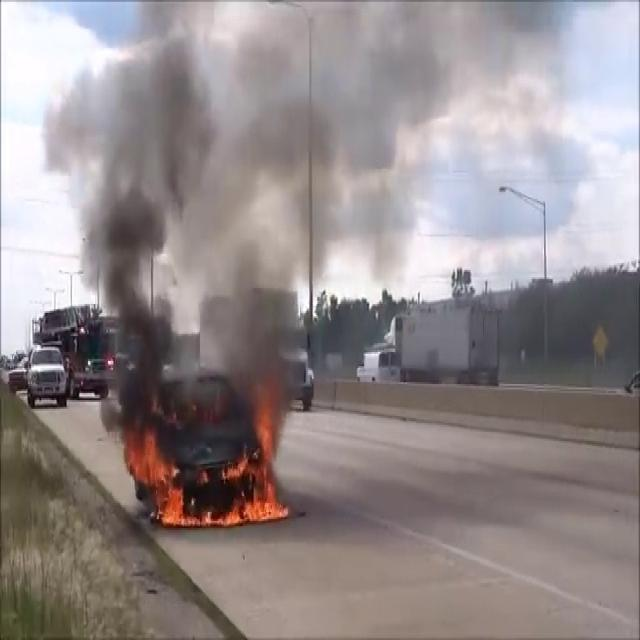Fire: (213, 402, 283, 524), (128, 409, 188, 527)
Smoke: (39, 1, 492, 410)
